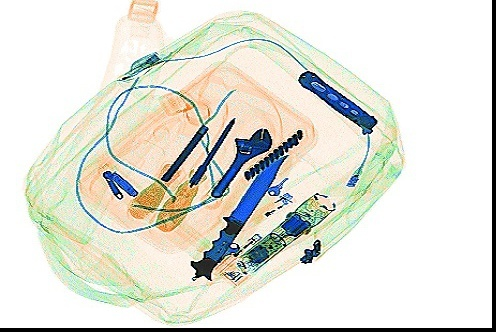knife: (296, 67, 379, 135)
lighter: (243, 189, 294, 228), (221, 230, 262, 266)
